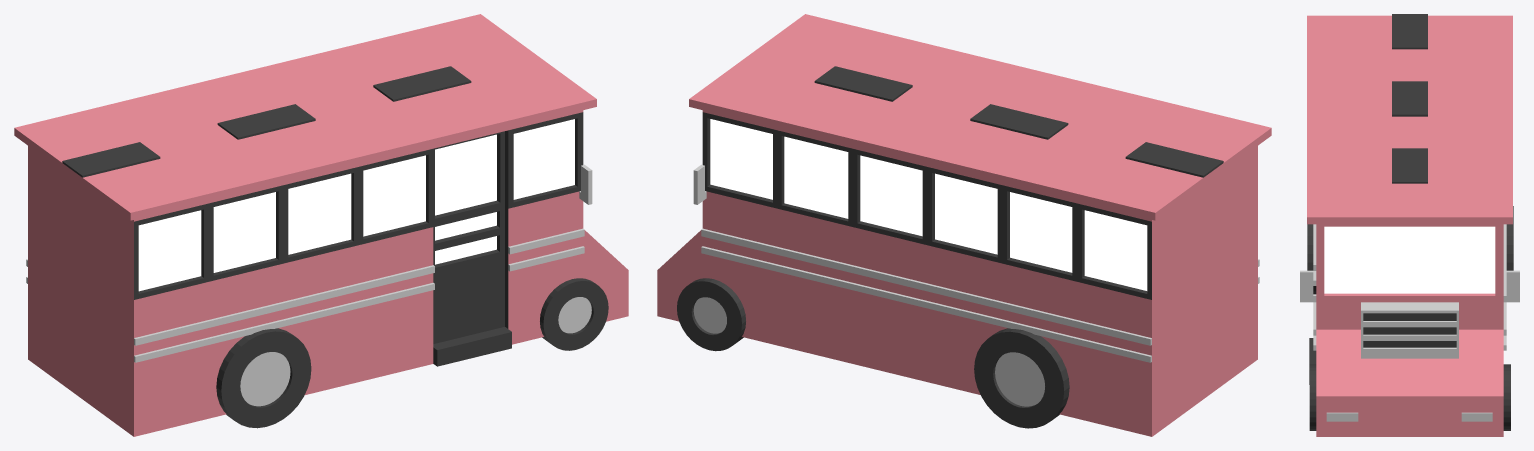
File: Car 1.5.fbx
3 views of the same model, side by side, from view 1: azimuth 30°, elevation 25°; view 2: azimuth 150°, elevation 25°; view 3: azimuth 270°, elevation 25° (orthographic). The views are drawn at different scales.
Parts seen in each view (by area): view 1: Car_2.005; view 2: Car_2.005; view 3: Car_2.005.
Boxes of the visible parts, x1,y1,x2,y2 form: Car_2.005: (14, 14, 628, 436); Car_2.005: (657, 14, 1271, 436); Car_2.005: (1300, 14, 1519, 436).
Size of the model in its own units: 768 by 362 by 327.
